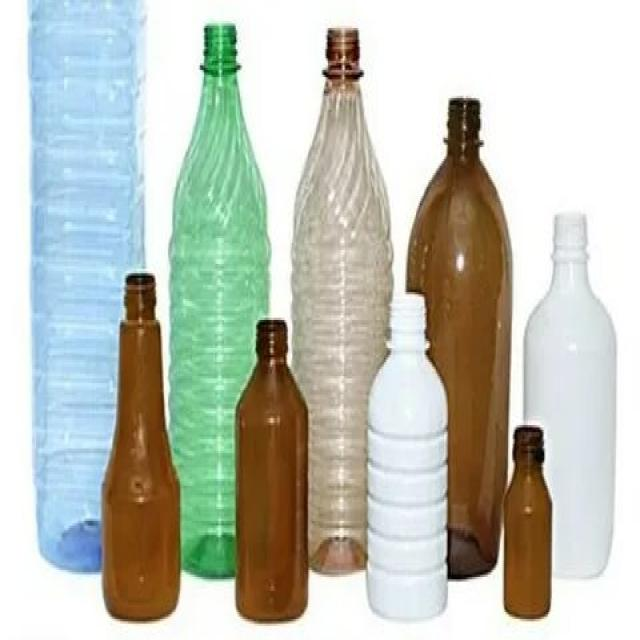blue: (28, 0, 146, 269)
brown: (405, 93, 512, 574), (102, 275, 182, 621), (234, 318, 309, 620)
green: (170, 22, 270, 320)
